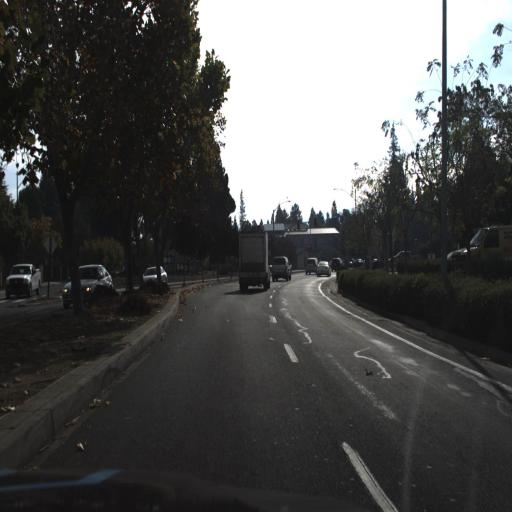car: (236, 226, 277, 295), (62, 265, 114, 310), (441, 227, 484, 270), (6, 263, 42, 299), (139, 263, 167, 289), (270, 255, 292, 283), (302, 256, 322, 276), (317, 253, 333, 276), (315, 260, 333, 277)
truck: (237, 228, 270, 293)
